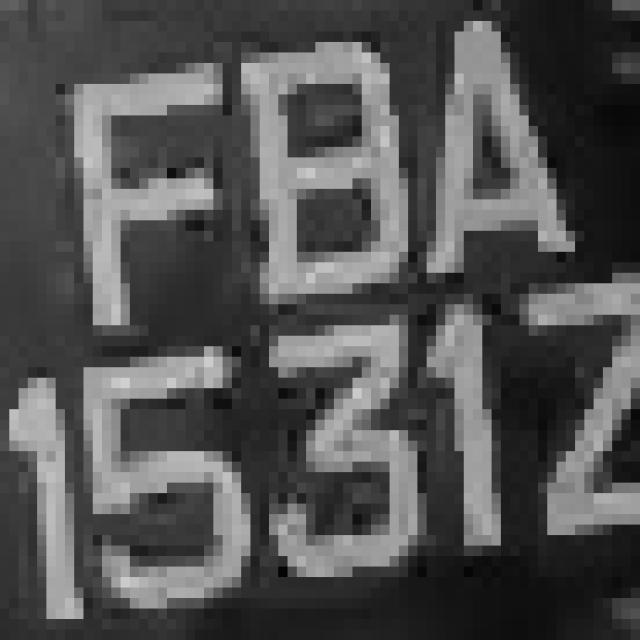1: (418, 283, 510, 567), (0, 346, 74, 630)
3: (260, 304, 408, 577)
5: (74, 325, 260, 630)
A: (389, 0, 575, 304)
B: (223, 11, 408, 336)
F: (46, 42, 242, 336)
Z: (510, 262, 631, 567)
